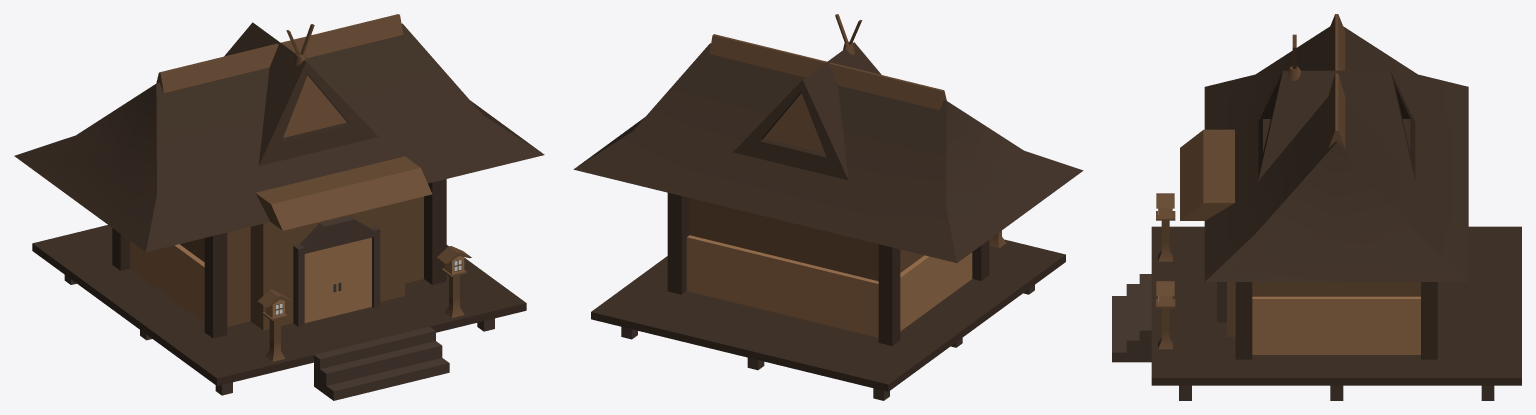
File: shrine.fbx
3 renders of one model, left to right at view 1: azimuth 30°, elevation 25°; view 2: azimuth 150°, elevation 25°; view 3: azimuth 270°, elevation 25°, orthographic. The views are drawn at different scales.
Parts seen in each view (by area): view 1: shrine; view 2: shrine; view 3: shrine.
Part boxes in pixels (x1,y1,x2,y2): shrine: (14,14,544,400); shrine: (573,14,1083,400); shrine: (1112,14,1521,400).
Bounding box in the file's own units: 15.27 × 10.69 × 13.55.
